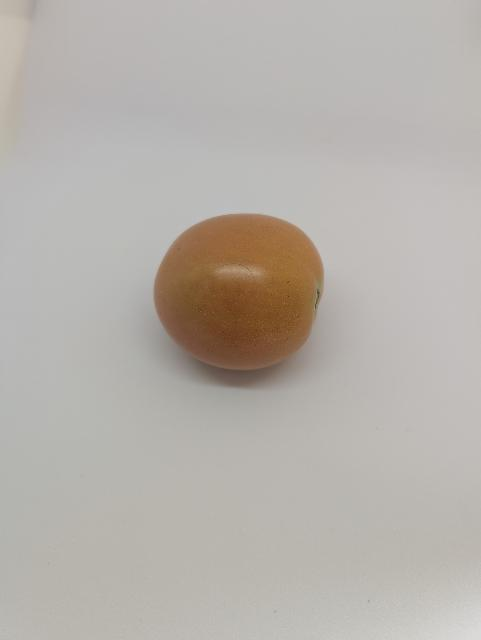turning: (150, 206, 335, 386)
